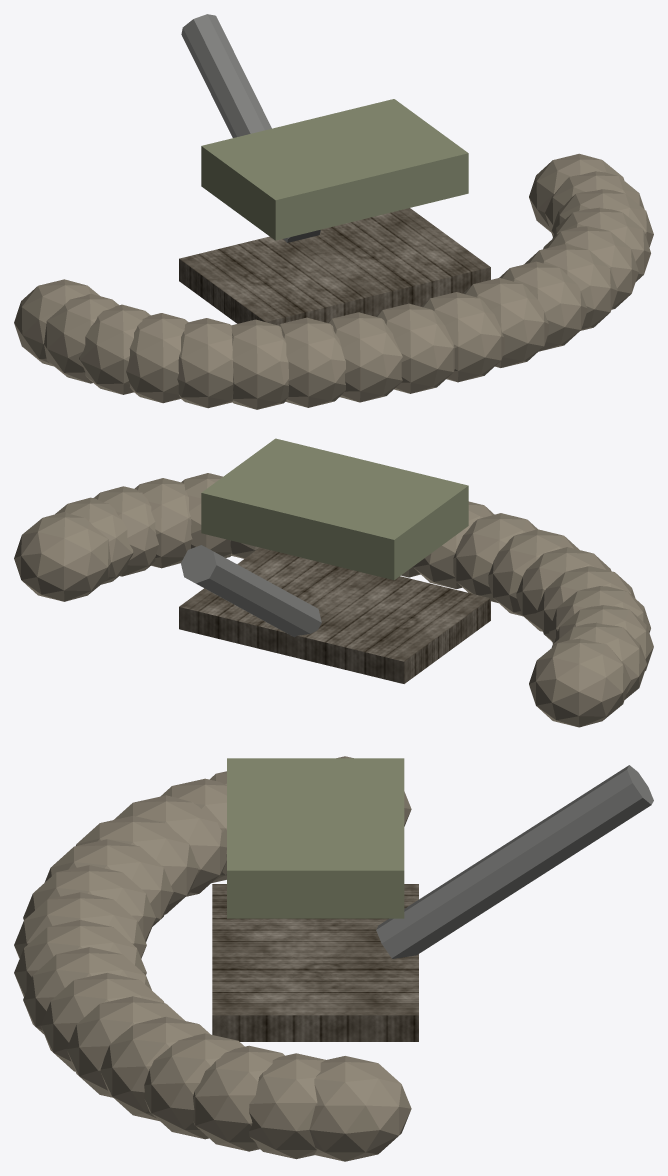
Rendered from flak_erdwall_abgedeckt.glb.
3 renders of one model, top to bottom at view 1: azimuth 30°, elevation 25°; view 2: azimuth 150°, elevation 25°; view 3: azimuth 270°, elevation 25°, orthographic. The views are drawn at different scales.
Parts seen in each view (by area): view 1: flak_erdwall_abgedeckt_020, flak_erdwall_abgedeckt_018, flak_erdwall_abgedeckt_019, flak_erdwall_abgedeckt_011, flak_erdwall_abgedeckt_010, flak_erdwall_abgedeckt_012, flak_erdwall_abgedeckt_009, flak_erdwall_abgedeckt_013, flak_erdwall_abgedeckt_008, flak_erdwall_abgedeckt_014, flak_erdwall_abgedeckt_007, flak_erdwall_abgedeckt_015 (+9 smaller); view 2: flak_erdwall_abgedeckt_020, flak_erdwall_abgedeckt_018, flak_erdwall_abgedeckt_017, flak_erdwall_abgedeckt_000, flak_erdwall_abgedeckt_019, flak_erdwall_abgedeckt_010, flak_erdwall_abgedeckt_003, flak_erdwall_abgedeckt_011, flak_erdwall_abgedeckt_002, flak_erdwall_abgedeckt_012, flak_erdwall_abgedeckt_001, flak_erdwall_abgedeckt_013 (+5 smaller); view 3: flak_erdwall_abgedeckt_020, flak_erdwall_abgedeckt_018, flak_erdwall_abgedeckt_019, flak_erdwall_abgedeckt_000, flak_erdwall_abgedeckt_001, flak_erdwall_abgedeckt_002, flak_erdwall_abgedeckt_003, flak_erdwall_abgedeckt_004, flak_erdwall_abgedeckt_005, flak_erdwall_abgedeckt_013, flak_erdwall_abgedeckt_006, flak_erdwall_abgedeckt_012 (+6 smaller).
Boxes of the visible parts, x1,y1,x2,y2 form: flak_erdwall_abgedeckt_020: [201, 99, 468, 240]; flak_erdwall_abgedeckt_018: [179, 208, 490, 325]; flak_erdwall_abgedeckt_019: [181, 14, 320, 242]; flak_erdwall_abgedeckt_011: [279, 317, 345, 407]; flak_erdwall_abgedeckt_010: [328, 312, 402, 402]; flak_erdwall_abgedeckt_012: [231, 319, 288, 409]; flak_erdwall_abgedeckt_009: [375, 303, 454, 393]; flak_erdwall_abgedeckt_013: [177, 318, 233, 408]; flak_erdwall_abgedeckt_008: [421, 292, 504, 382]; flak_erdwall_abgedeckt_014: [126, 313, 188, 403]; flak_erdwall_abgedeckt_007: [463, 278, 548, 367]; flak_erdwall_abgedeckt_015: [79, 304, 150, 394]; flak_erdwall_abgedeckt_020: [201, 438, 468, 580]; flak_erdwall_abgedeckt_018: [179, 547, 490, 683]; flak_erdwall_abgedeckt_017: [529, 638, 630, 727]; flak_erdwall_abgedeckt_000: [14, 512, 110, 601]; flak_erdwall_abgedeckt_019: [181, 545, 321, 637]; flak_erdwall_abgedeckt_010: [453, 513, 537, 603]; flak_erdwall_abgedeckt_003: [134, 478, 192, 568]; flak_erdwall_abgedeckt_011: [488, 529, 579, 616]; flak_erdwall_abgedeckt_002: [93, 486, 158, 576]; flak_erdwall_abgedeckt_012: [516, 547, 611, 631]; flak_erdwall_abgedeckt_001: [55, 497, 133, 584]; flak_erdwall_abgedeckt_013: [536, 566, 635, 641]; flak_erdwall_abgedeckt_020: [227, 758, 404, 918]; flak_erdwall_abgedeckt_018: [212, 884, 418, 1041]; flak_erdwall_abgedeckt_019: [376, 765, 653, 958]; flak_erdwall_abgedeckt_000: [309, 1056, 411, 1161]; flak_erdwall_abgedeckt_001: [249, 1053, 325, 1159]; flak_erdwall_abgedeckt_002: [193, 1045, 284, 1151]; flak_erdwall_abgedeckt_003: [144, 1033, 244, 1139]; flak_erdwall_abgedeckt_004: [100, 1016, 210, 1121]; flak_erdwall_abgedeckt_005: [66, 996, 184, 1097]; flak_erdwall_abgedeckt_013: [114, 795, 226, 896]; flak_erdwall_abgedeckt_006: [41, 973, 164, 1071]; flak_erdwall_abgedeckt_012: [76, 816, 198, 914].
Bounding box in the file's own units: 5.6 × 1.78 × 4.33.
1 material, 1 textured.
